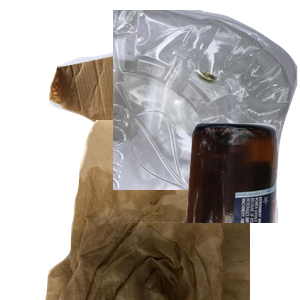cardboard: (46, 40, 226, 179)
glass: (87, 120, 300, 300)
plastic: (113, 10, 300, 190)
trash: (43, 120, 283, 300)
